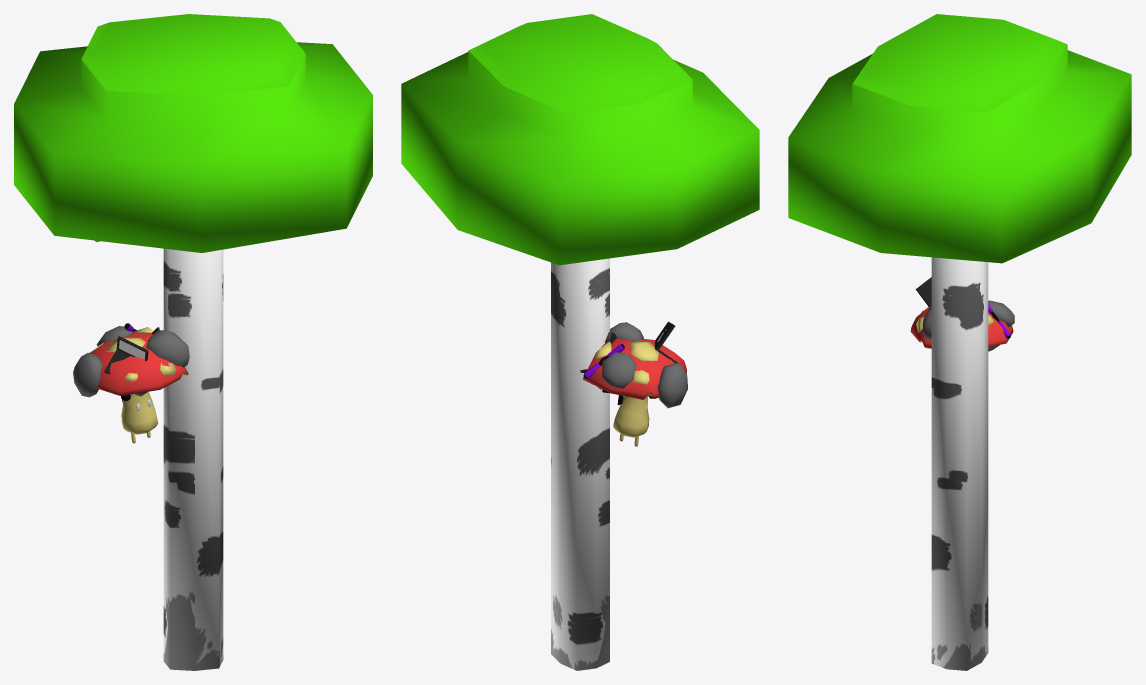
File: endtree.fbx
The picture shows the model from 3 angles, left to right: view 1: azimuth 30°, elevation 25°; view 2: azimuth 150°, elevation 25°; view 3: azimuth 270°, elevation 25°; orthographic projection.
Parts seen in each view (by area): view 1: tree3, eyes.001; view 2: tree3, eyes.001; view 3: tree3, eyes.001.
Boxes of the visible parts, bbox=[...] form: tree3: bbox=[14, 14, 372, 670]; eyes.001: bbox=[73, 323, 189, 443]; tree3: bbox=[401, 14, 759, 670]; eyes.001: bbox=[580, 321, 687, 446]; tree3: bbox=[788, 14, 1131, 670]; eyes.001: bbox=[910, 277, 1014, 351].
Bounding box in the file's own units: 586 × 1066 × 551.
